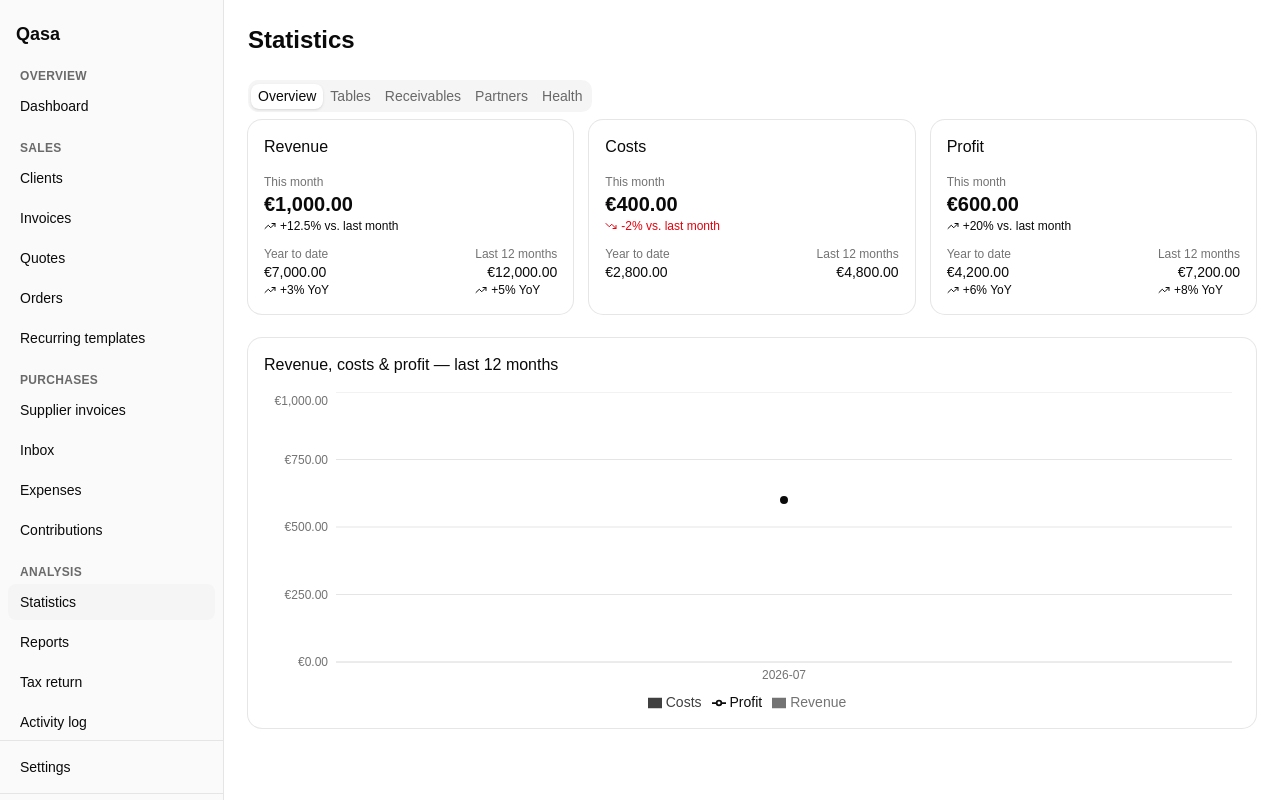
Scenario: statistics page › switches to the partners tab and shows the top client ranking
This screenshot has width=1280, height=800.
Click the tab "Partners".
click(502, 96)  # box [468,84,535,108]
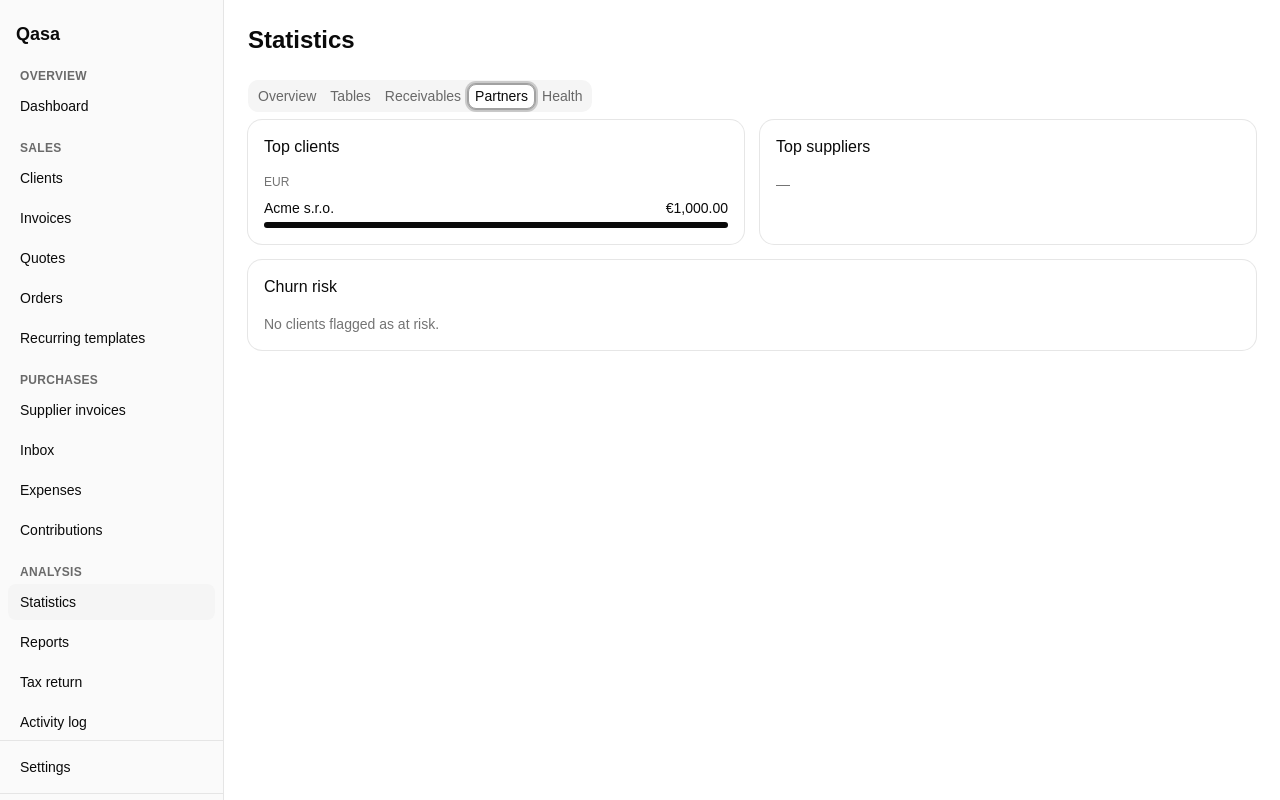
Result: the text "Acme s.r.o." is shown at [264,198,334,218]
